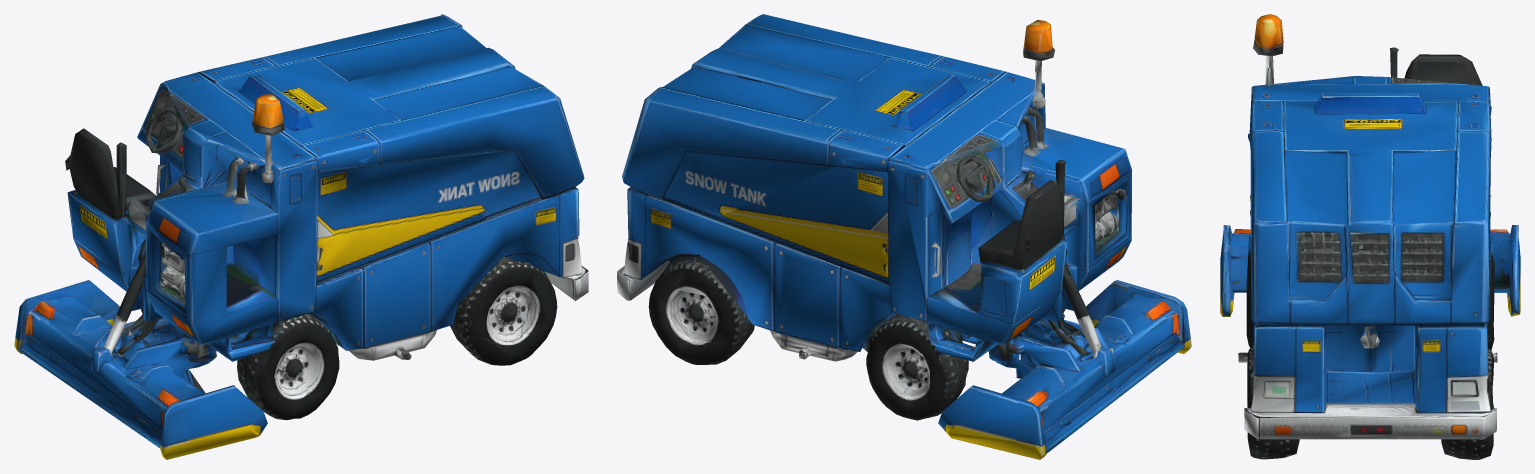
File: zamboni.glb
3 views of the same model, side by side, from view 1: azimuth 30°, elevation 25°; view 2: azimuth 150°, elevation 25°; view 3: azimuth 270°, elevation 25° (orthographic).
Parts seen in each view (by area): view 1: Mesh_0; view 2: Mesh_0; view 3: Mesh_0.
Part boxes in pixels (<box>): Mesh_0: <box>14,14,588,459</box>; Mesh_0: <box>617,14,1191,459</box>; Mesh_0: <box>1220,14,1520,459</box>.
Bounding box in the file's own units: 1.91 × 1.33 × 1.11.
1 material, 1 textured.
